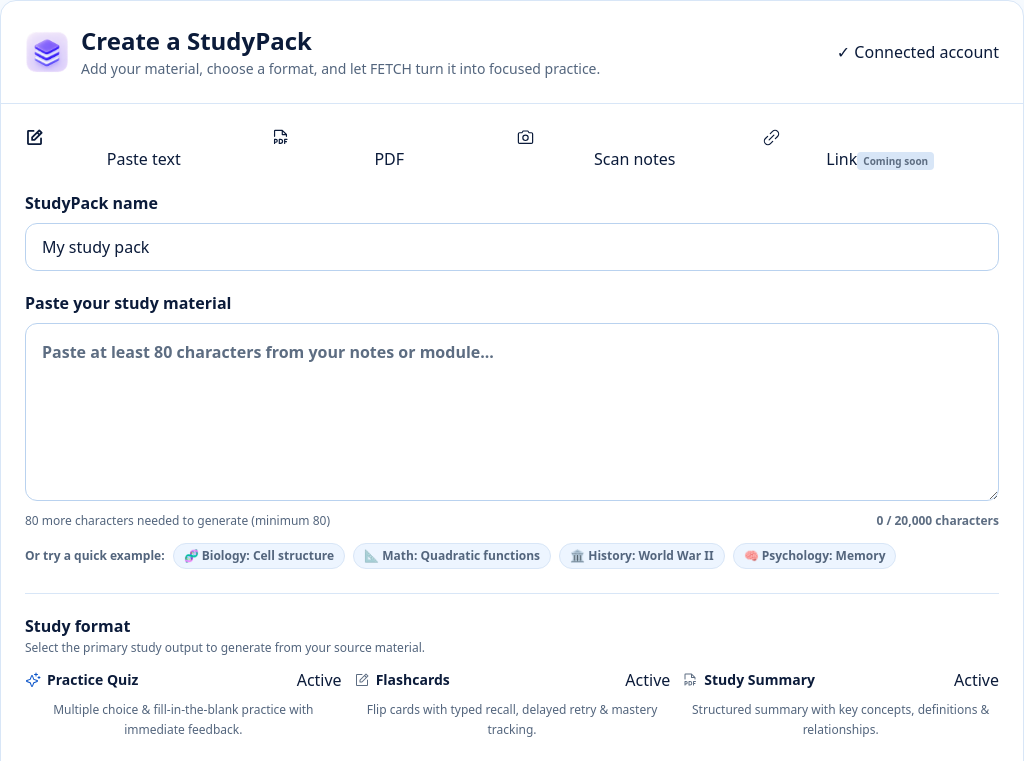
Test: hydrates the saved StudyPack before navigating, retrying 0 unavailable read without a browser refresh
The width and height of the screenshot is (1024, 761).
Type "Mitochondria provide energy for cells. The nucleus holds genetic instructions. These organelles have different functions." into the text box labelled "Paste your study material" at {"x": 512, "y": 412}, box [25,323,999,501]
(page scrolled)
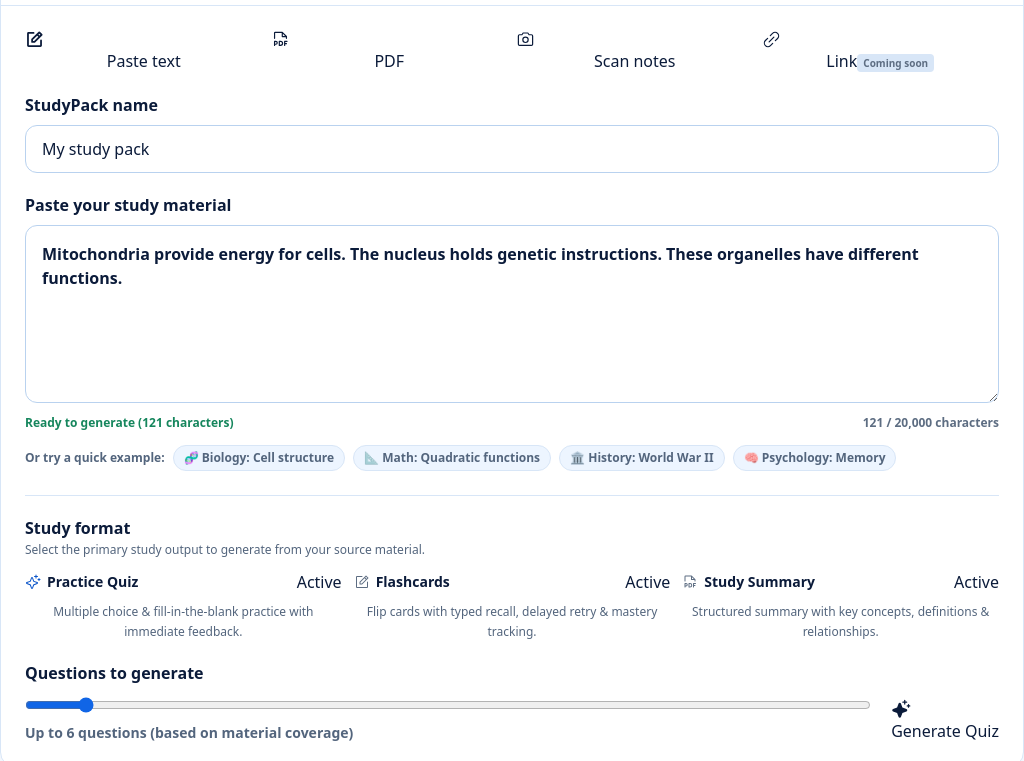
Click the button "Generate Quiz" at {"x": 945, "y": 721}, box [891,699,999,743]
(page scrolled)
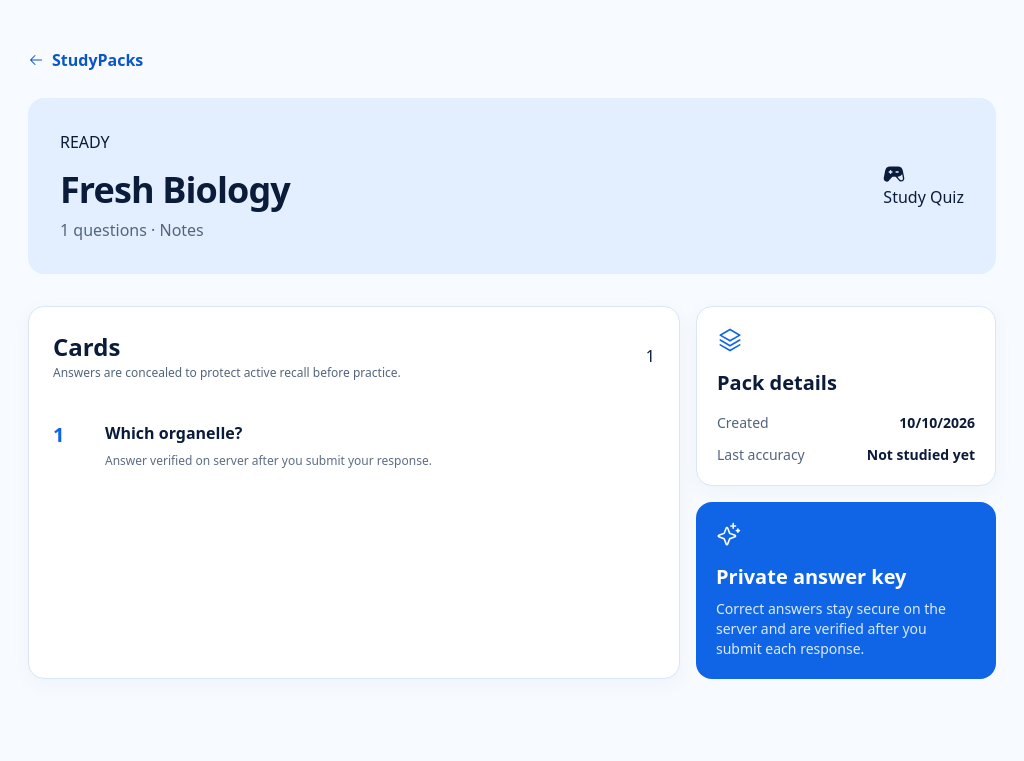
Check: the heading "Fresh Biology" is shown, box [60,170,290,210]
